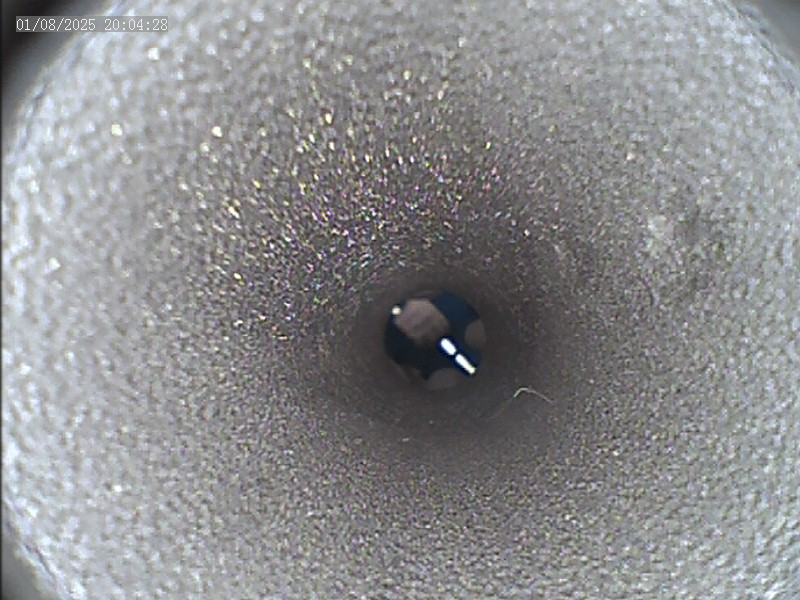defective_area: (389, 291, 552, 402)
